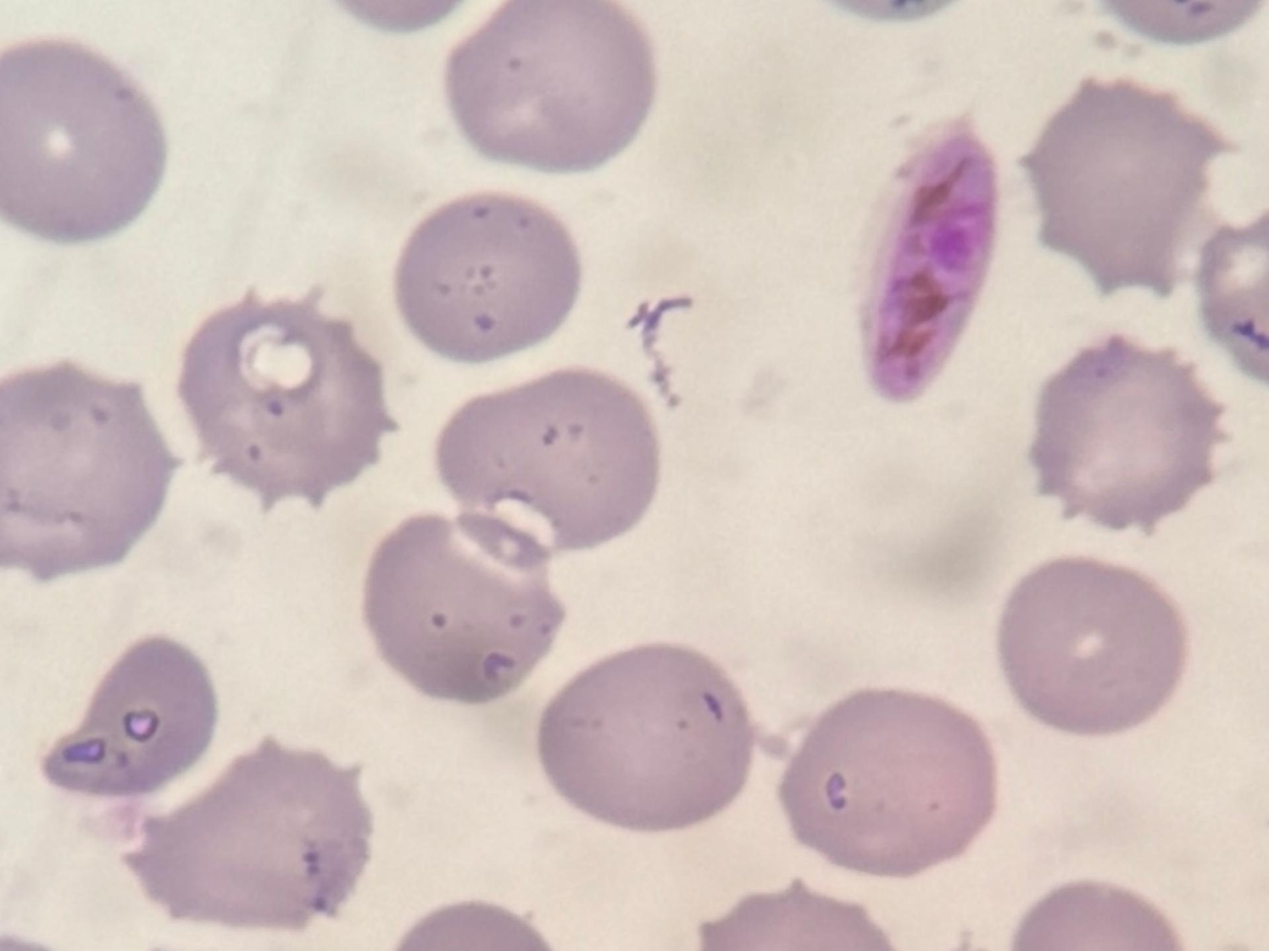Infected: (857, 129, 1000, 399)
Uninfected: (121, 734, 370, 928), (1031, 76, 1228, 295), (441, 373, 662, 564), (181, 296, 389, 496), (542, 644, 752, 834), (0, 362, 182, 581), (787, 688, 991, 875), (364, 514, 561, 705), (449, 0, 655, 173), (1040, 336, 1223, 525), (0, 40, 164, 240), (1002, 560, 1191, 731), (394, 197, 582, 359), (48, 635, 216, 791)
